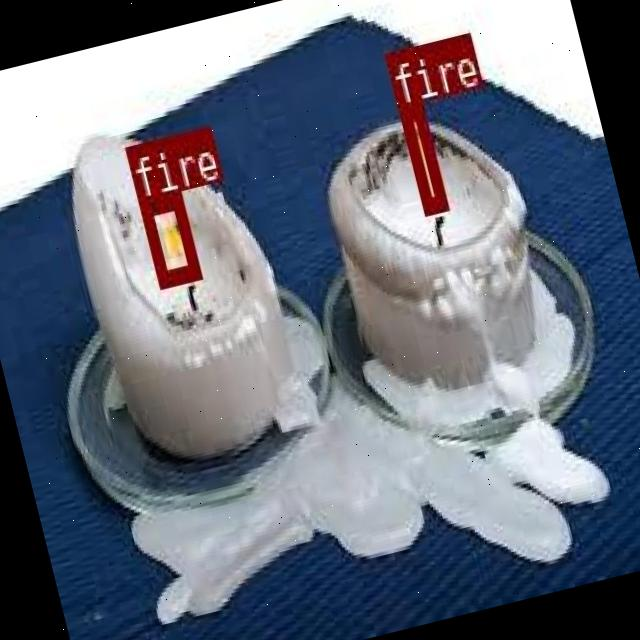fire: (137, 189, 198, 284), (396, 101, 446, 213)
